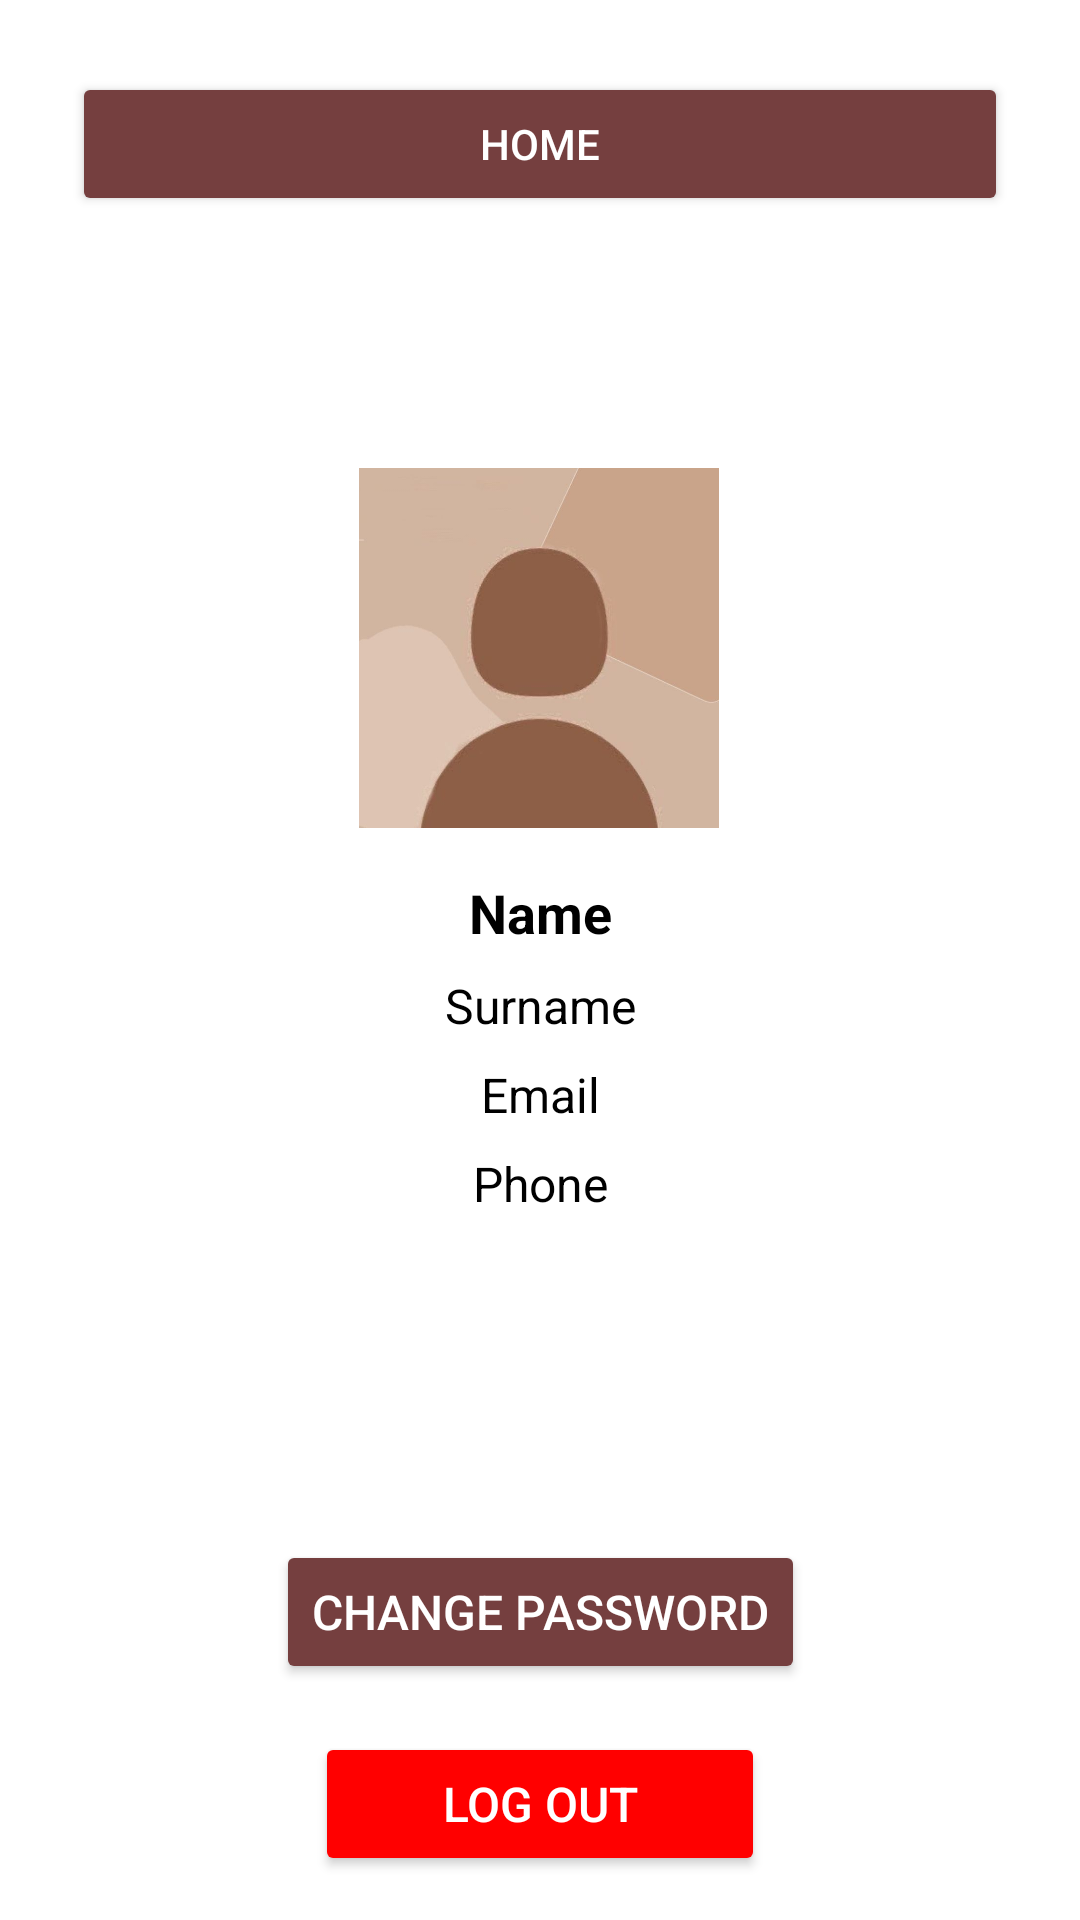

Icons on this 1080px x 1920px Android screen, each with the point to tap as point (x, y):
Profile Picture: point (539, 648)
